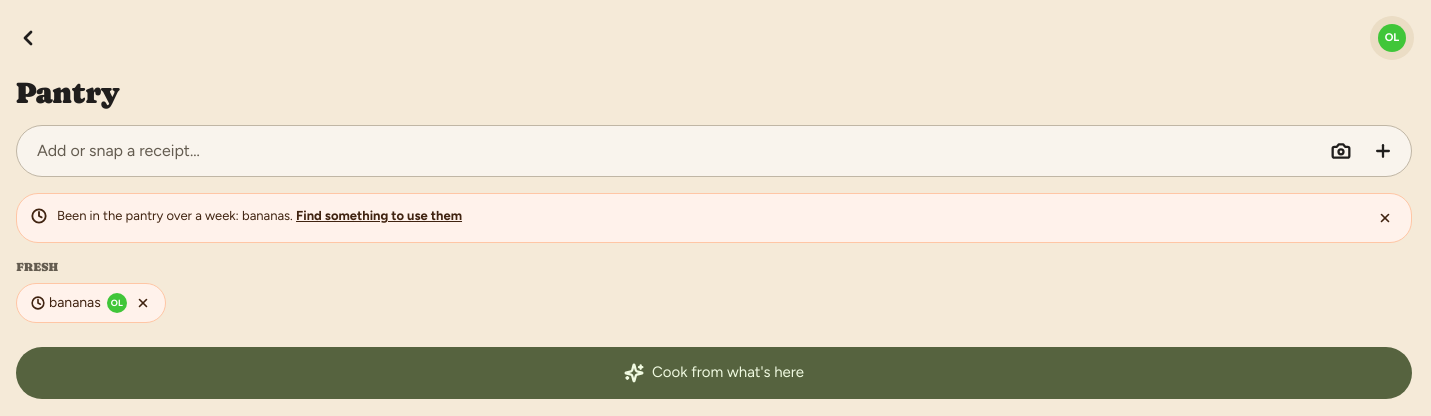
Test case: PantryPage ageing and avatars (RL-240) › shows no nudge when nothing is old, and dismiss hides it for the day
What coordinates should you click on to do the following:
click the button named "Dismiss for today"
I would click on:
 (1385, 218)
Its box is [1373,206,1397,230].
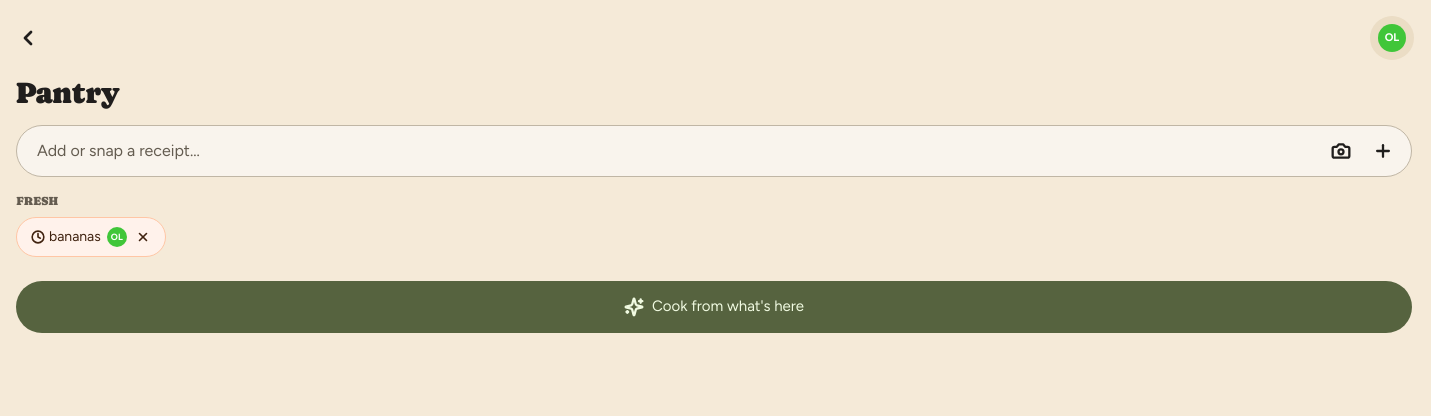
Result: the link "Find something to use them" is gone
